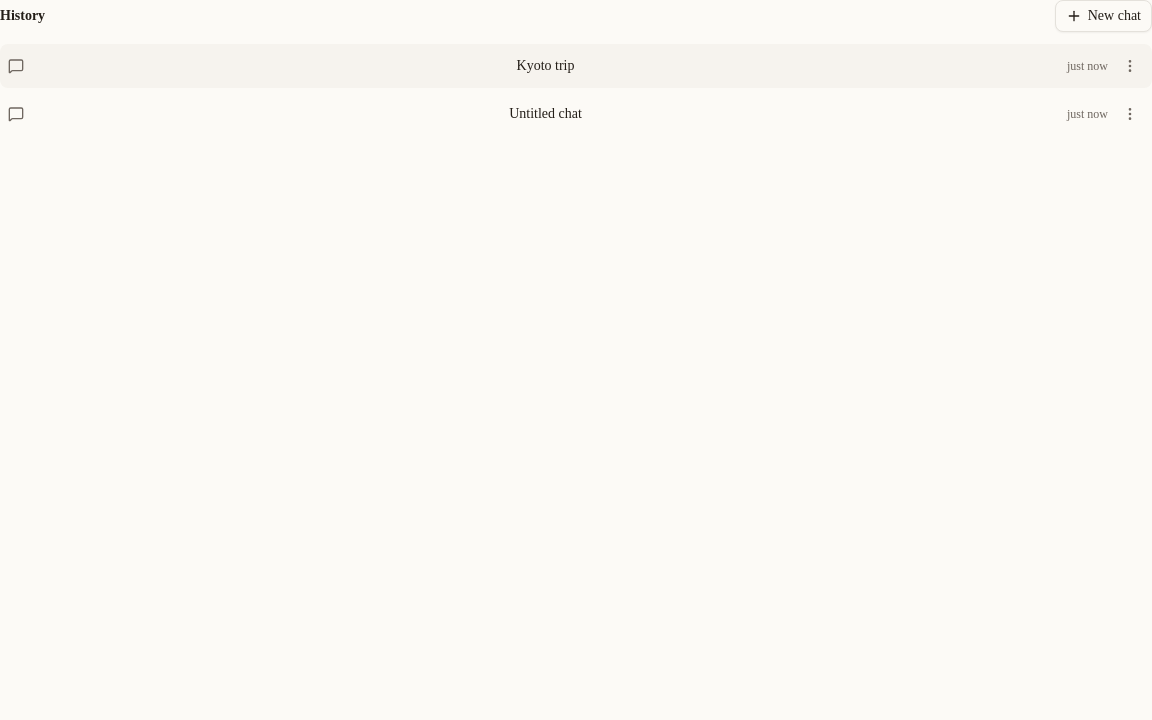
Test case: ChatHistory › deletes a conversation after confirming and reports when the active one is removed
Expected: the text "Kyoto trip" is shown, [516,58,574,73]
Click the 1st button named "Conversation actions": (1130, 66) [1116,52,1144,80]
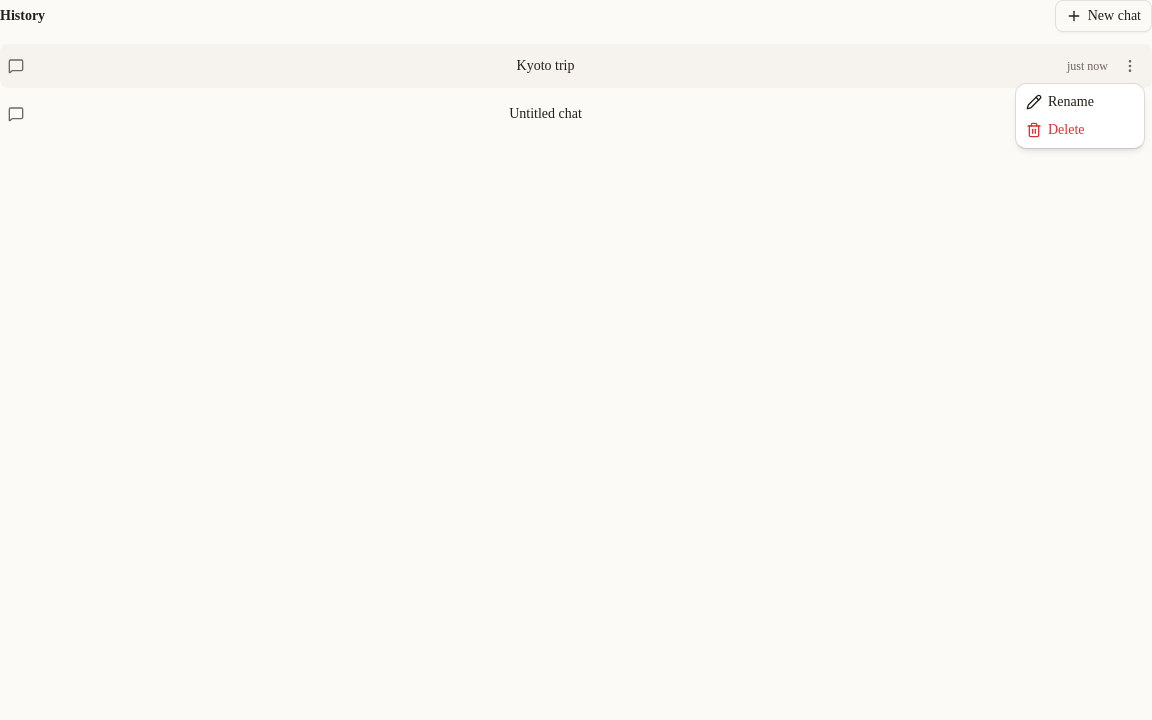
Click the menu item "Delete": (1055, 130) [1026,122,1084,138]
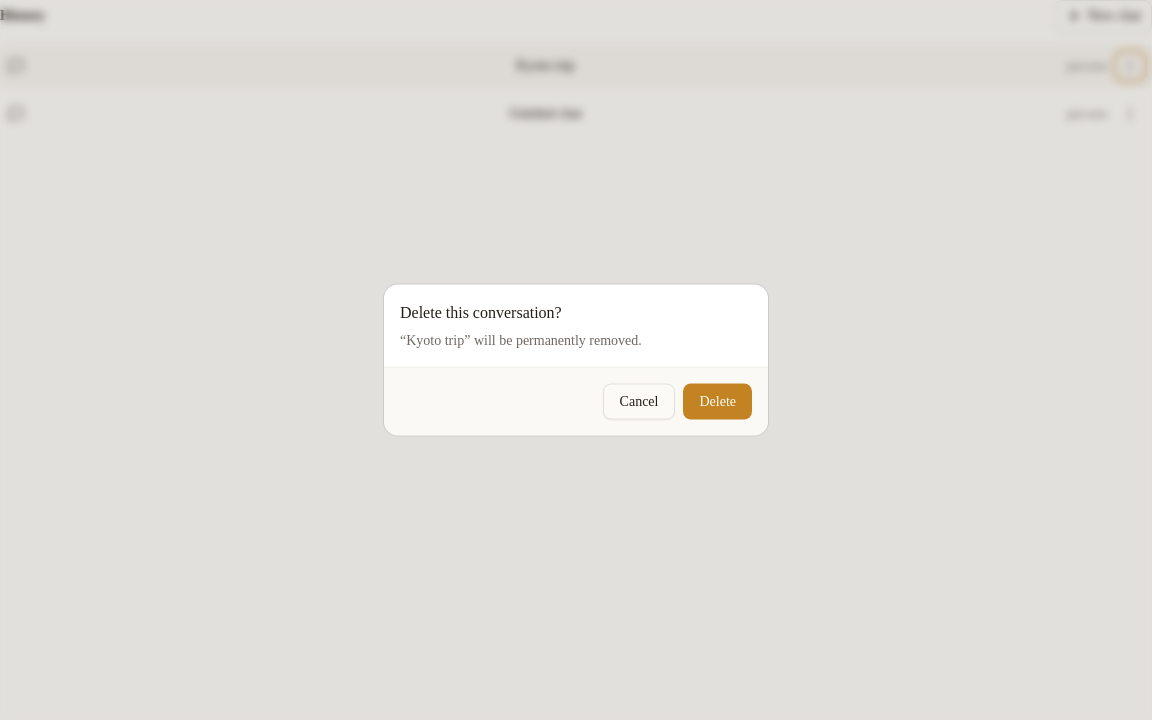
Click the button "Delete": (718, 402) [684,384,752,420]
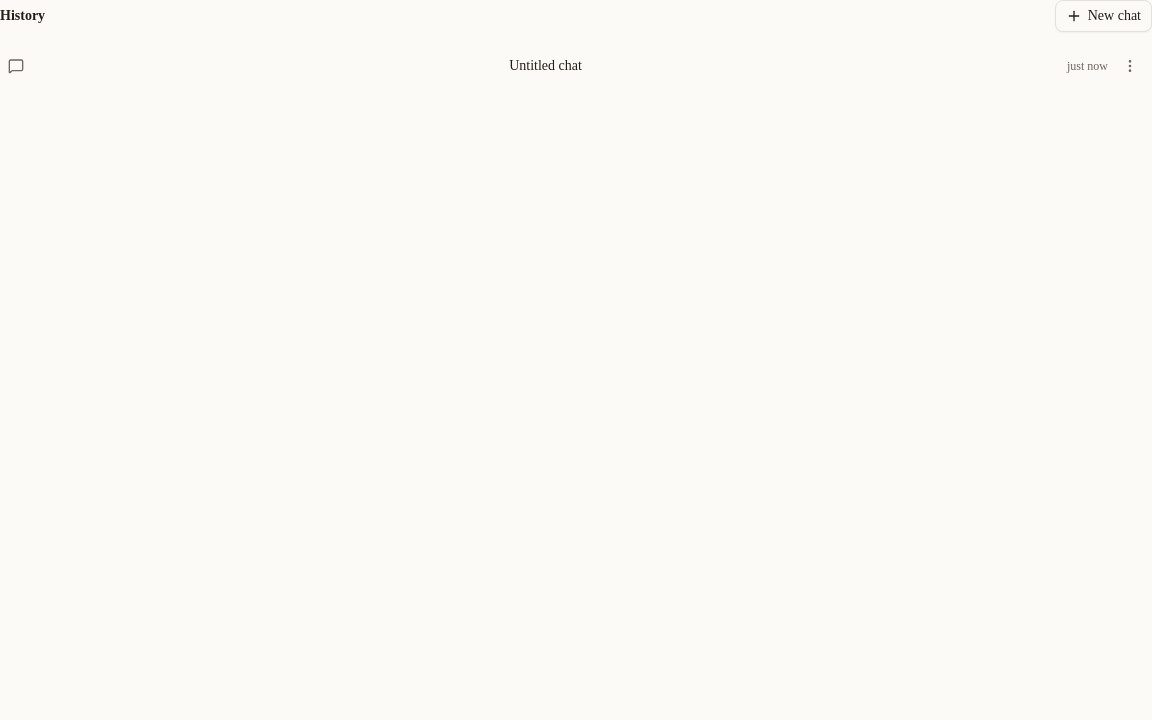
Now the button "Kyoto trip" is gone
